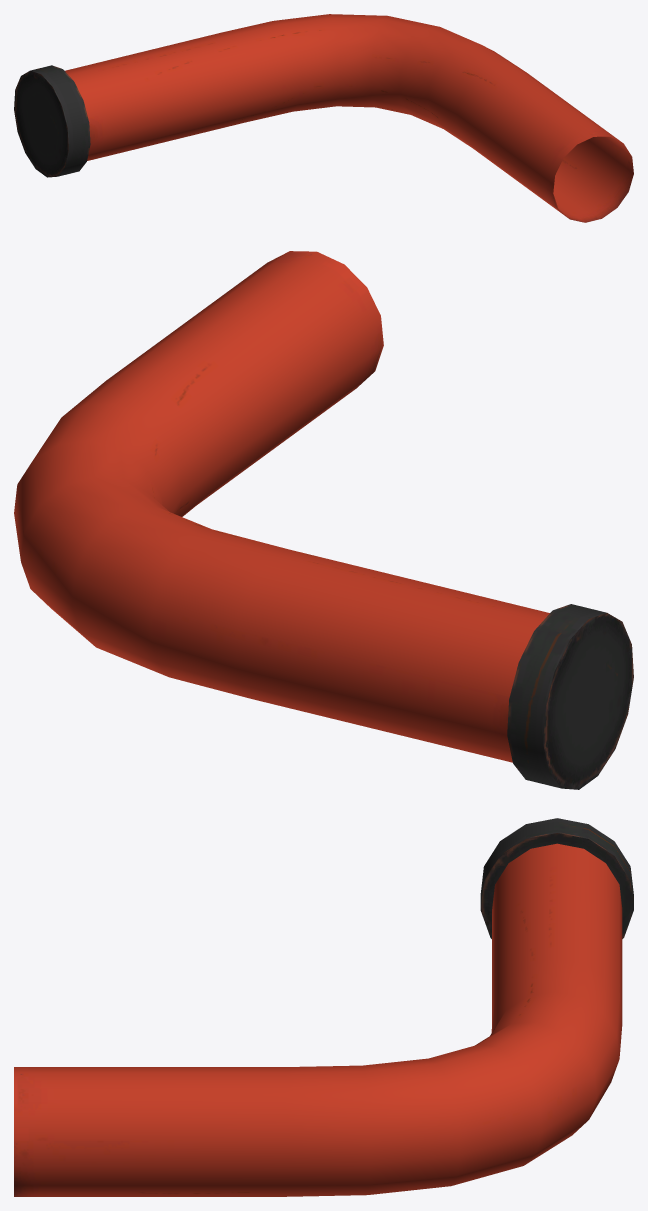
File: Redpipe_Turn.dae
3 views of the same model, one above another, from view 1: azimuth 30°, elevation 25°; view 2: azimuth 150°, elevation 25°; view 3: azimuth 270°, elevation 25° (orthographic). The views are drawn at different scales.
Parts seen in each view (by area): view 1: polySurface402; view 2: polySurface402; view 3: polySurface402.
Part boxes in pixels (x1,y1,x2,y2): polySurface402: (14,14,633,222); polySurface402: (14,251,633,789); polySurface402: (14,818,633,1196).
Bounding box in the file's own units: 1.78 × 0.4216 × 1.71.
Materials: 1 (1 with a texture image).
